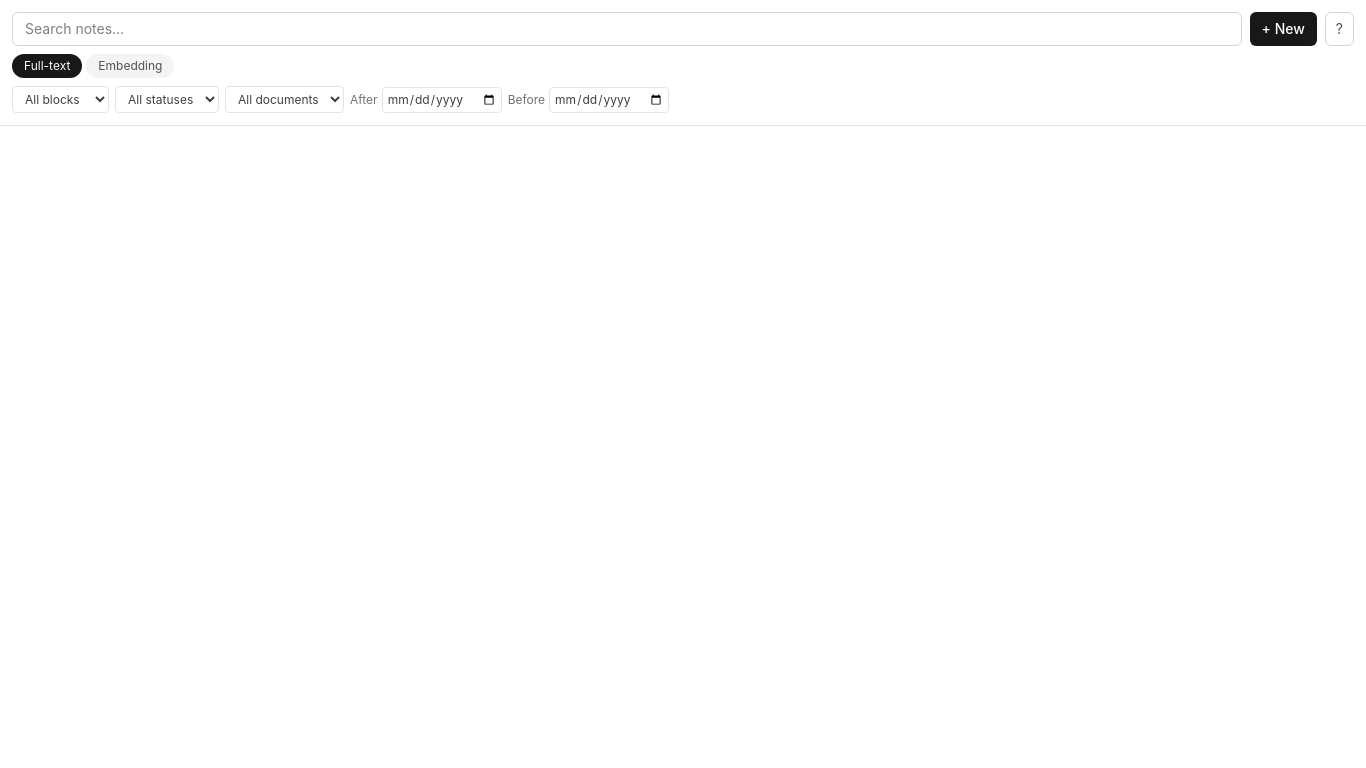
Test: SearchBar › opens help with folder, selection, and automatic link tips
Click the button named "Help and tips".
click(1339, 29)  # box [1325,12,1354,46]
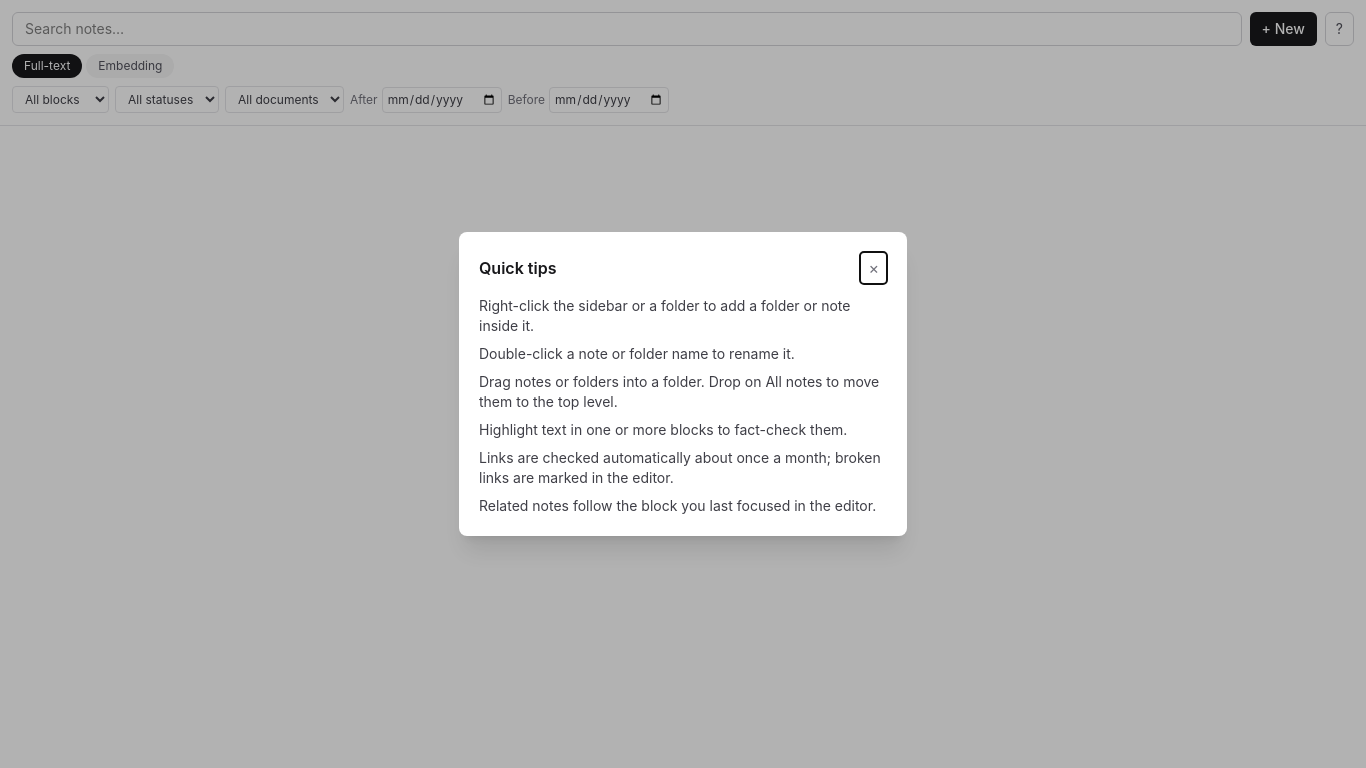
Result: the dialog shows "highlight text" at [479,421,847,438]
Result: the text "checked automatically" is shown at [479,449,881,486]
Result: the text "Right-click" is shown at [479,297,850,334]
